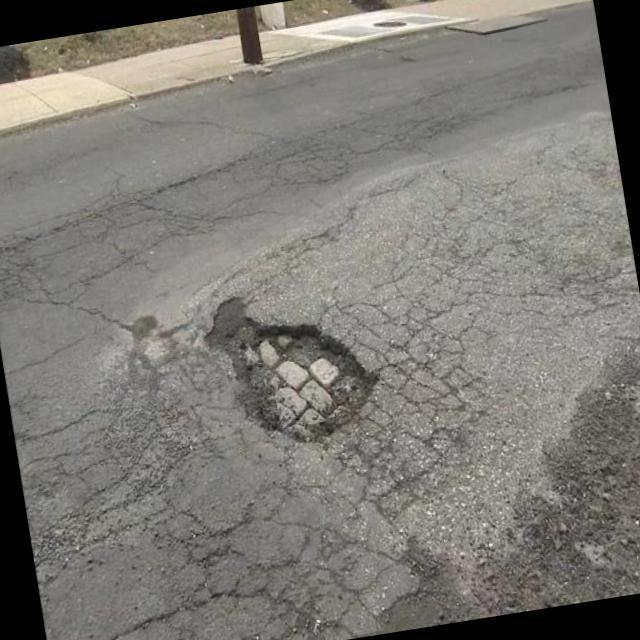Pothole: (209, 297, 375, 440), (276, 360, 310, 390)
